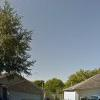Tree: (2, 2, 39, 81)
